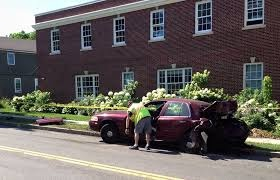Smashed: (184, 101, 250, 152)
